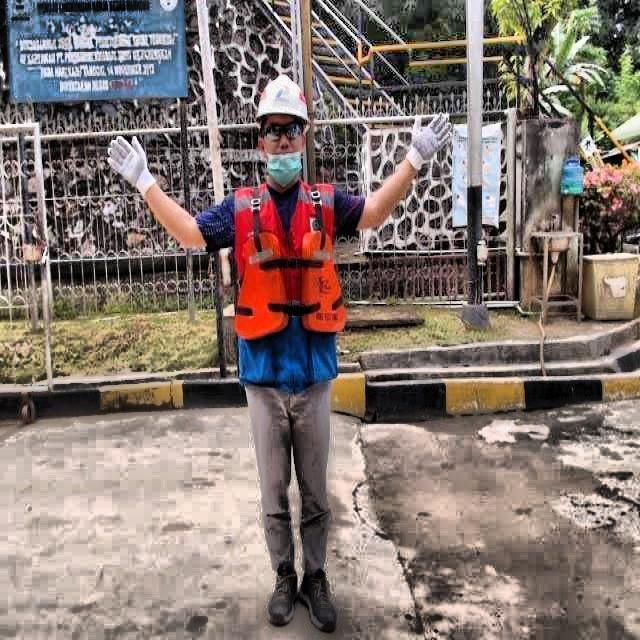safety_jacket: (237, 178, 346, 390)
